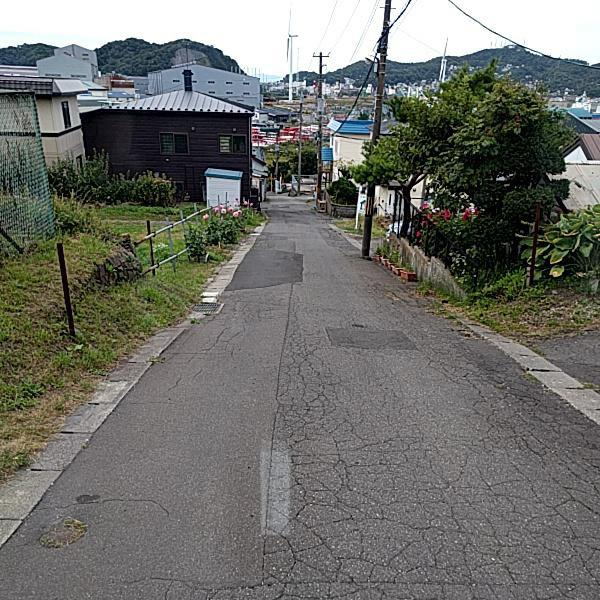D20: (138, 322, 591, 599)
D50: (35, 518, 91, 549)
